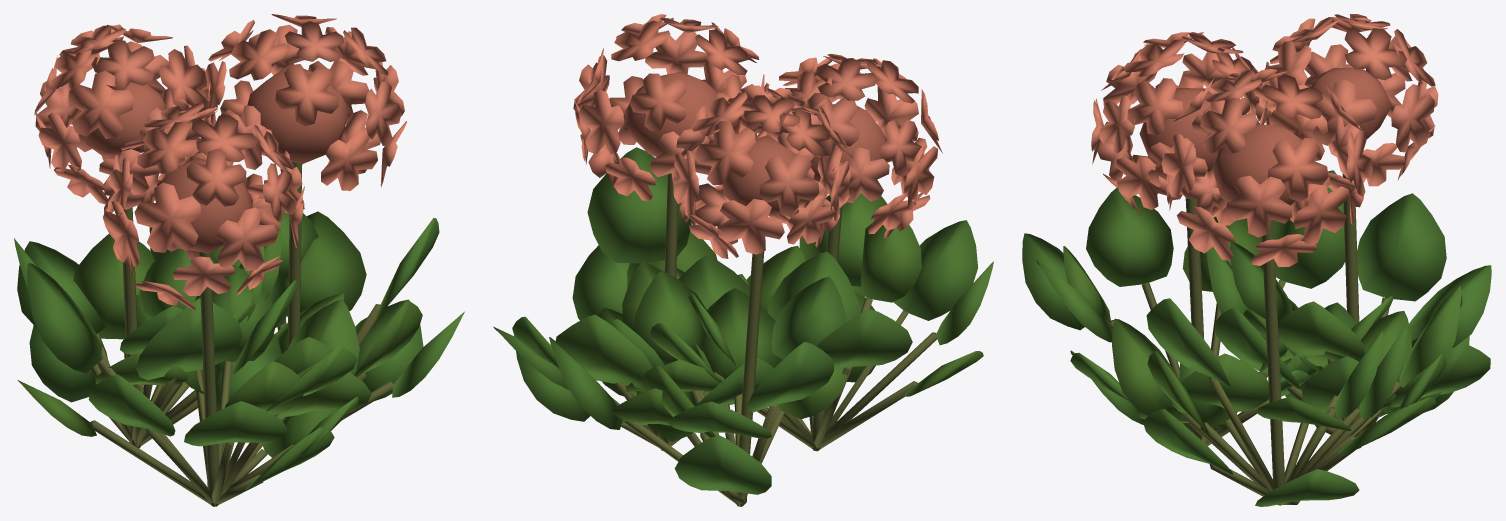
The model's file is potfill_geranium_coral.glb.
3 views of the same model, side by side, from view 1: azimuth 30°, elevation 25°; view 2: azimuth 150°, elevation 25°; view 3: azimuth 270°, elevation 25° (orthographic). The views are drawn at different scales.
Visible parts, largest first — view 1: Sammel Pflanze, Sammel Putz; view 2: Sammel Pflanze, Sammel Putz; view 3: Sammel Pflanze, Sammel Putz.
Part boxes in pixels (x1,y1,x2,y2): Sammel Pflanze: [14, 14, 464, 490]; Sammel Putz: [90, 156, 393, 506]; Sammel Pflanze: [493, 14, 993, 494]; Sammel Putz: [611, 173, 937, 506]; Sammel Pflanze: [1022, 14, 1491, 506]; Sammel Putz: [1109, 173, 1419, 505].
Size of the model in its own units: 0.387 by 0.3694 by 0.3691.
